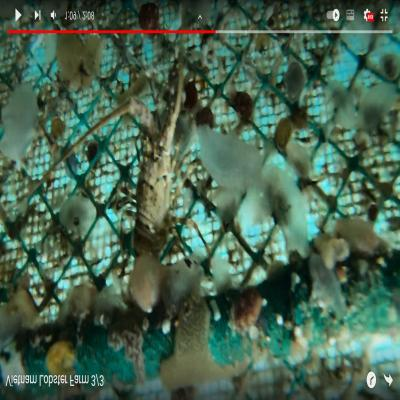lobster: (131, 103, 178, 251)
